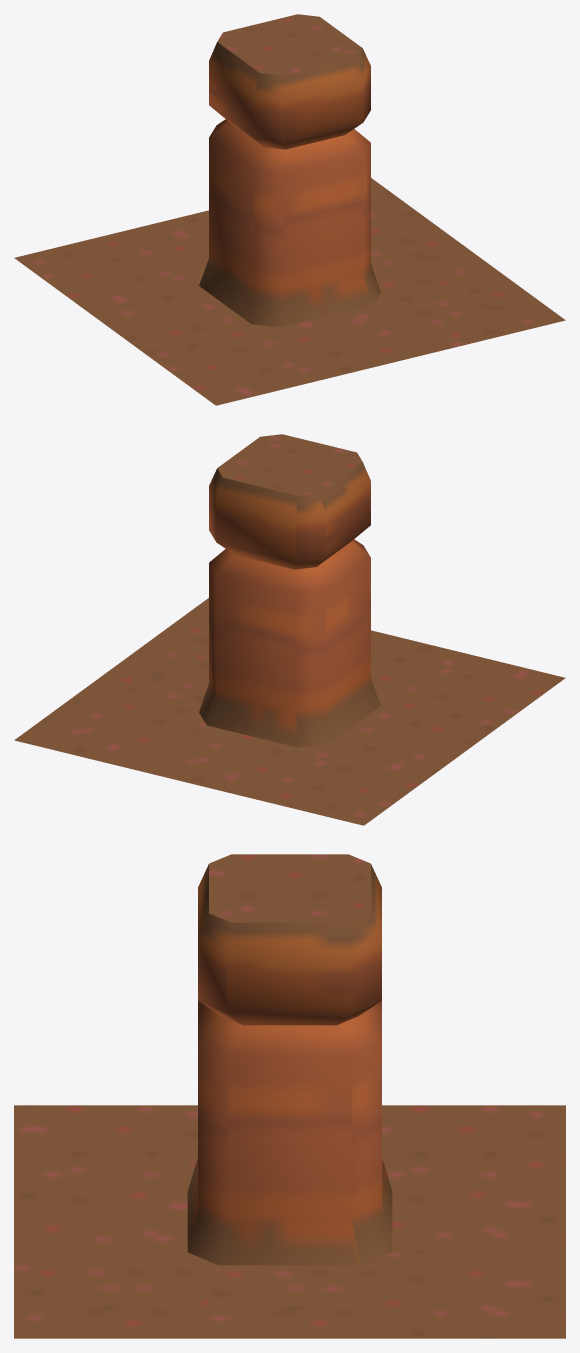
Rendered from canion_step_column_v03.fbx.
3 renders of one model, top to bottom at view 1: azimuth 30°, elevation 25°; view 2: azimuth 150°, elevation 25°; view 3: azimuth 270°, elevation 25°, orthographic. The views are drawn at different scales.
Visible parts, largest first — view 1: canion_step_column_v03; view 2: canion_step_column_v03; view 3: canion_step_column_v03.
Part boxes in pixels (x1,y1,x2,y2): canion_step_column_v03: (14,14,565,405); canion_step_column_v03: (14,434,565,825); canion_step_column_v03: (14,854,565,1338).
Bounding box in the file's own units: 600 × 400 × 600.
